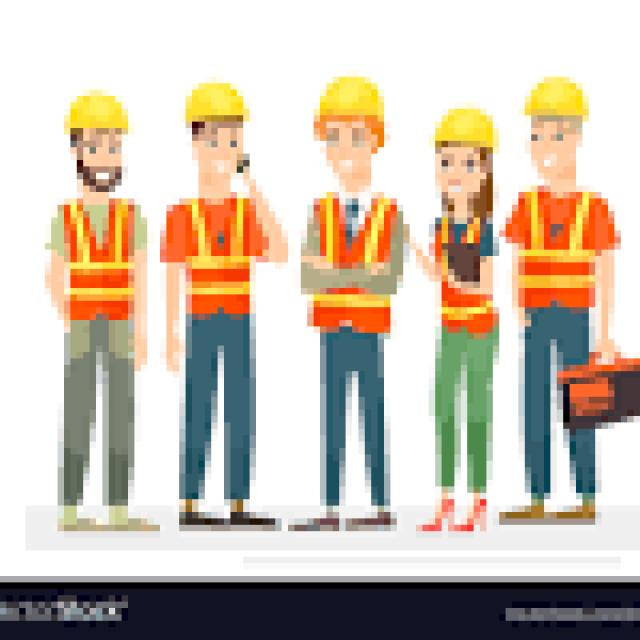Reflective-Jacket: (307, 192, 403, 333), (51, 192, 147, 333), (166, 192, 262, 320), (512, 185, 602, 314)
Safety-Helmet: (308, 70, 390, 141), (518, 70, 596, 128), (179, 70, 256, 128), (58, 83, 134, 141), (428, 102, 506, 154)
